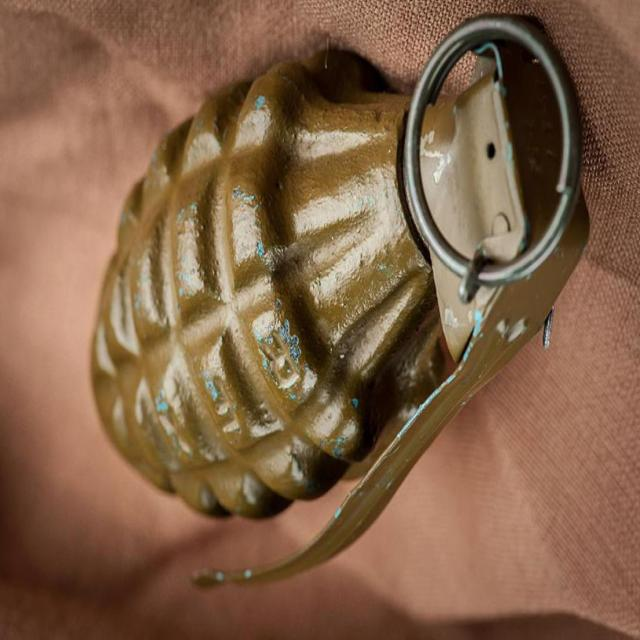grenade: (90, 13, 592, 589)
